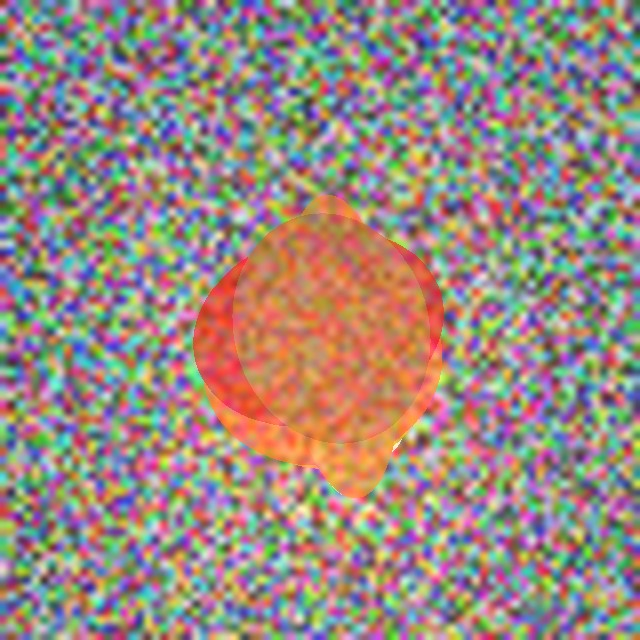fire: (198, 269, 468, 523)
